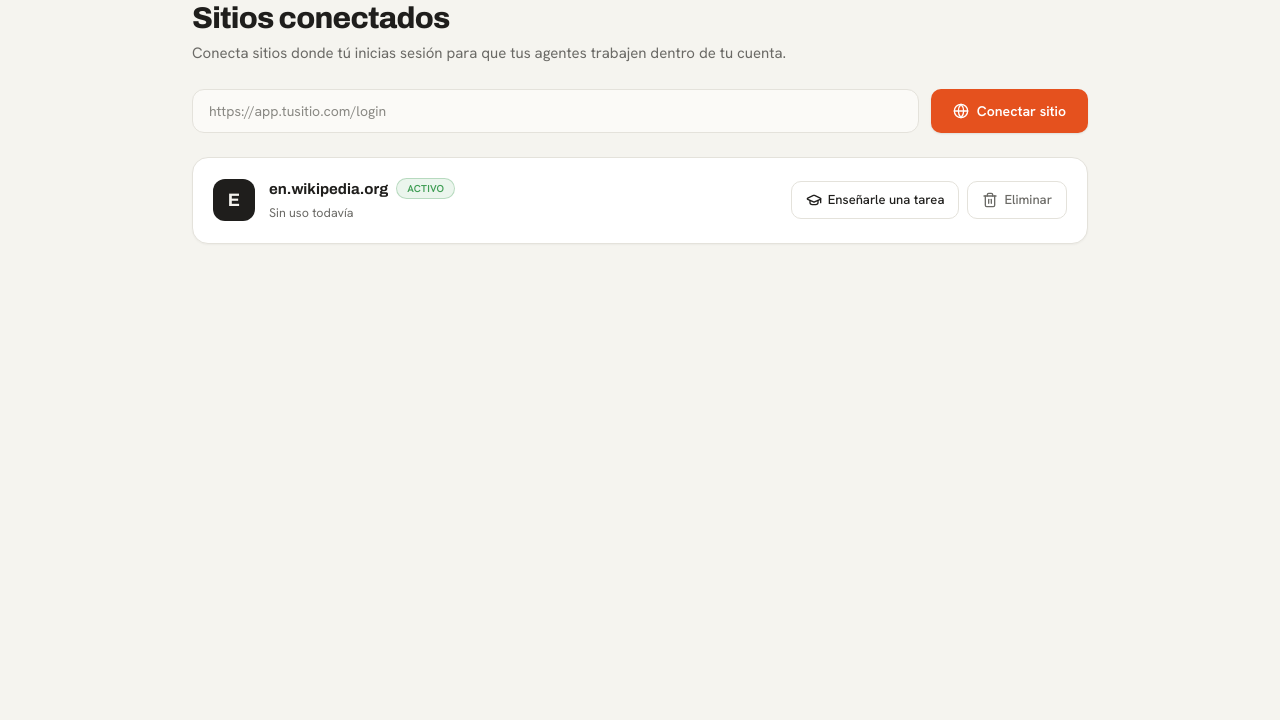
Test: SitiosConectadosPage: una sola accion de eliminar por fila › cancelar la confirmacion no elimina nada y cierra el dialogo
This screenshot has width=1280, height=720.
Click the button with aria-label "Eliminar la conexión con en.wikipedia.org" at {"x": 1017, "y": 200}, box [968,181,1067,219]
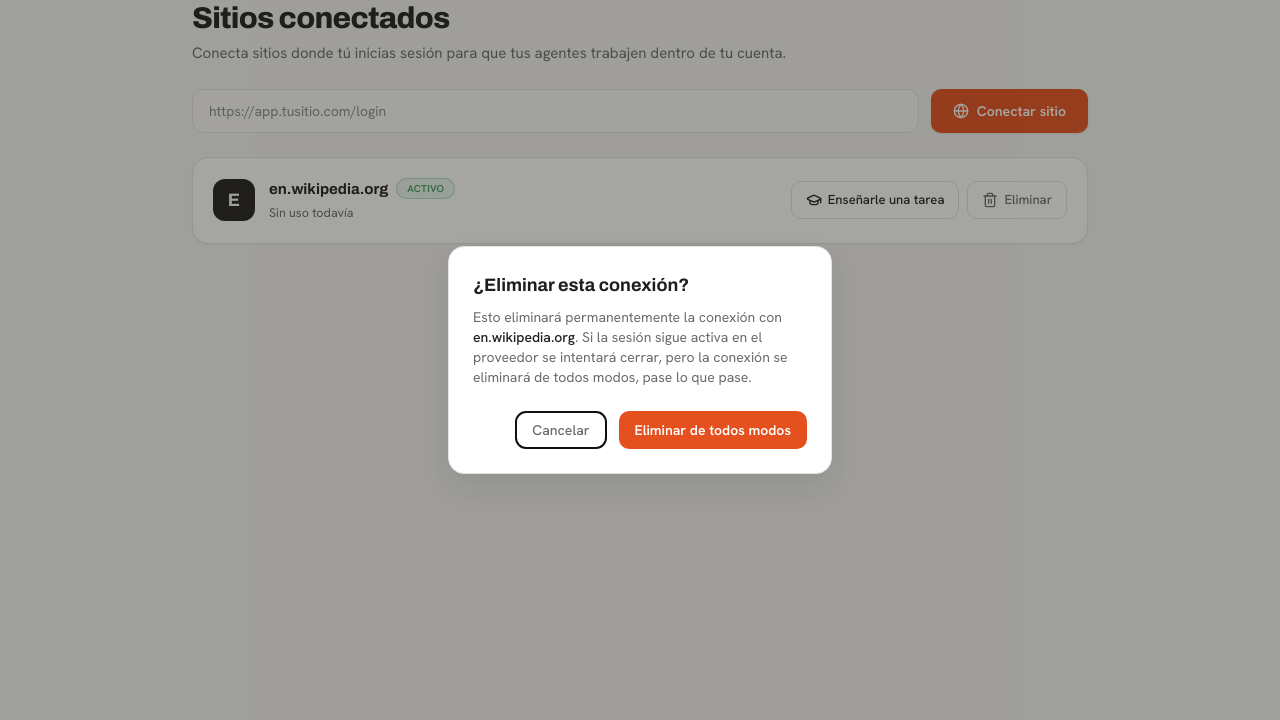
Click the button "Cancelar" at {"x": 561, "y": 430}, box [515,411,606,449]
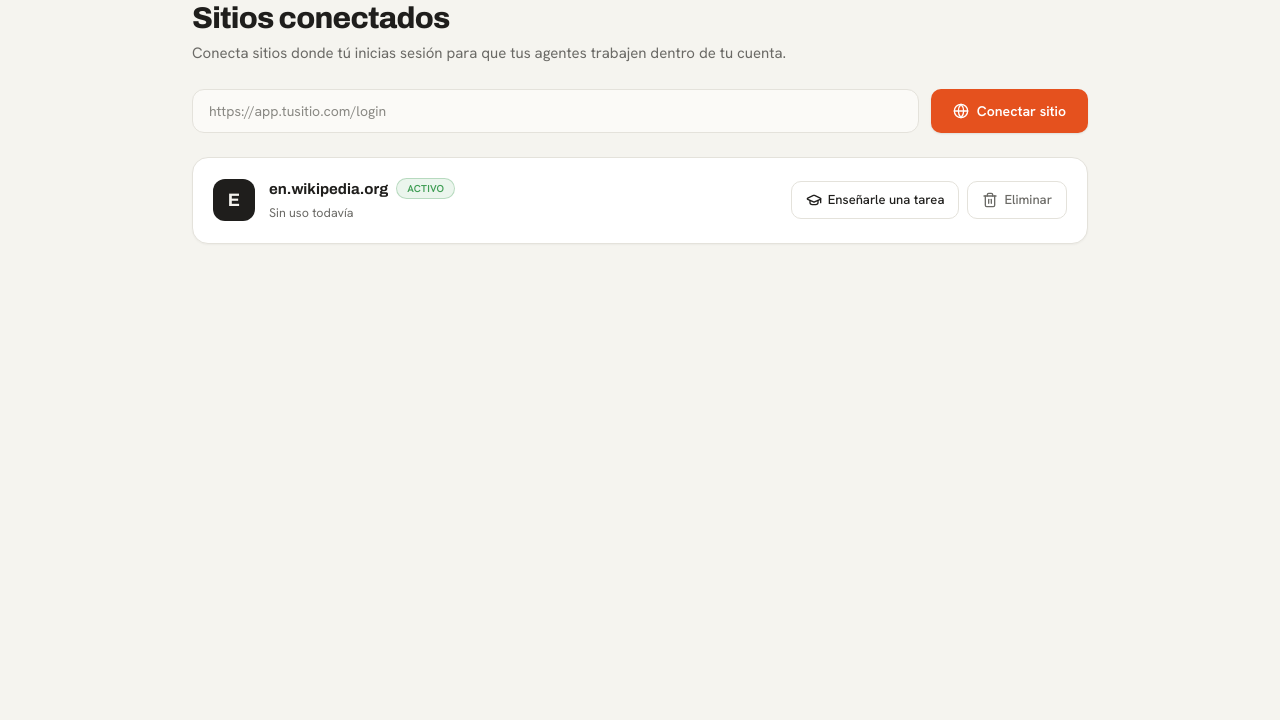
Result: the dialog is gone
